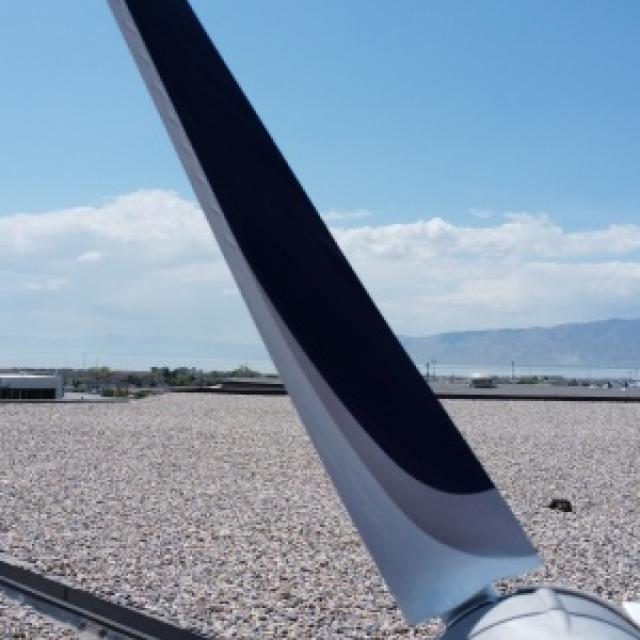healthy: (439, 587, 638, 638)
